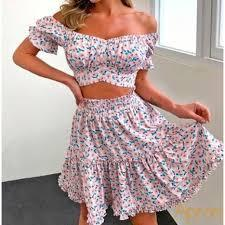Tshirt: (13, 6, 170, 92)
skirt: (41, 90, 224, 225)
